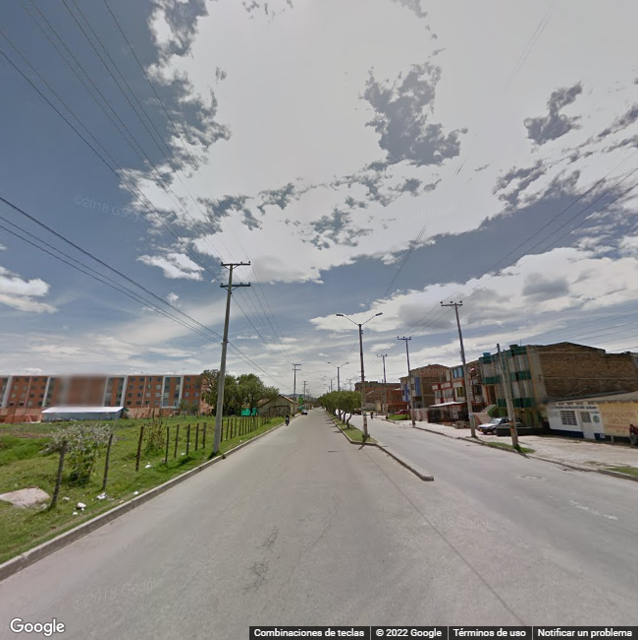D00: (301, 500, 342, 552), (253, 553, 271, 597), (268, 517, 281, 549)
